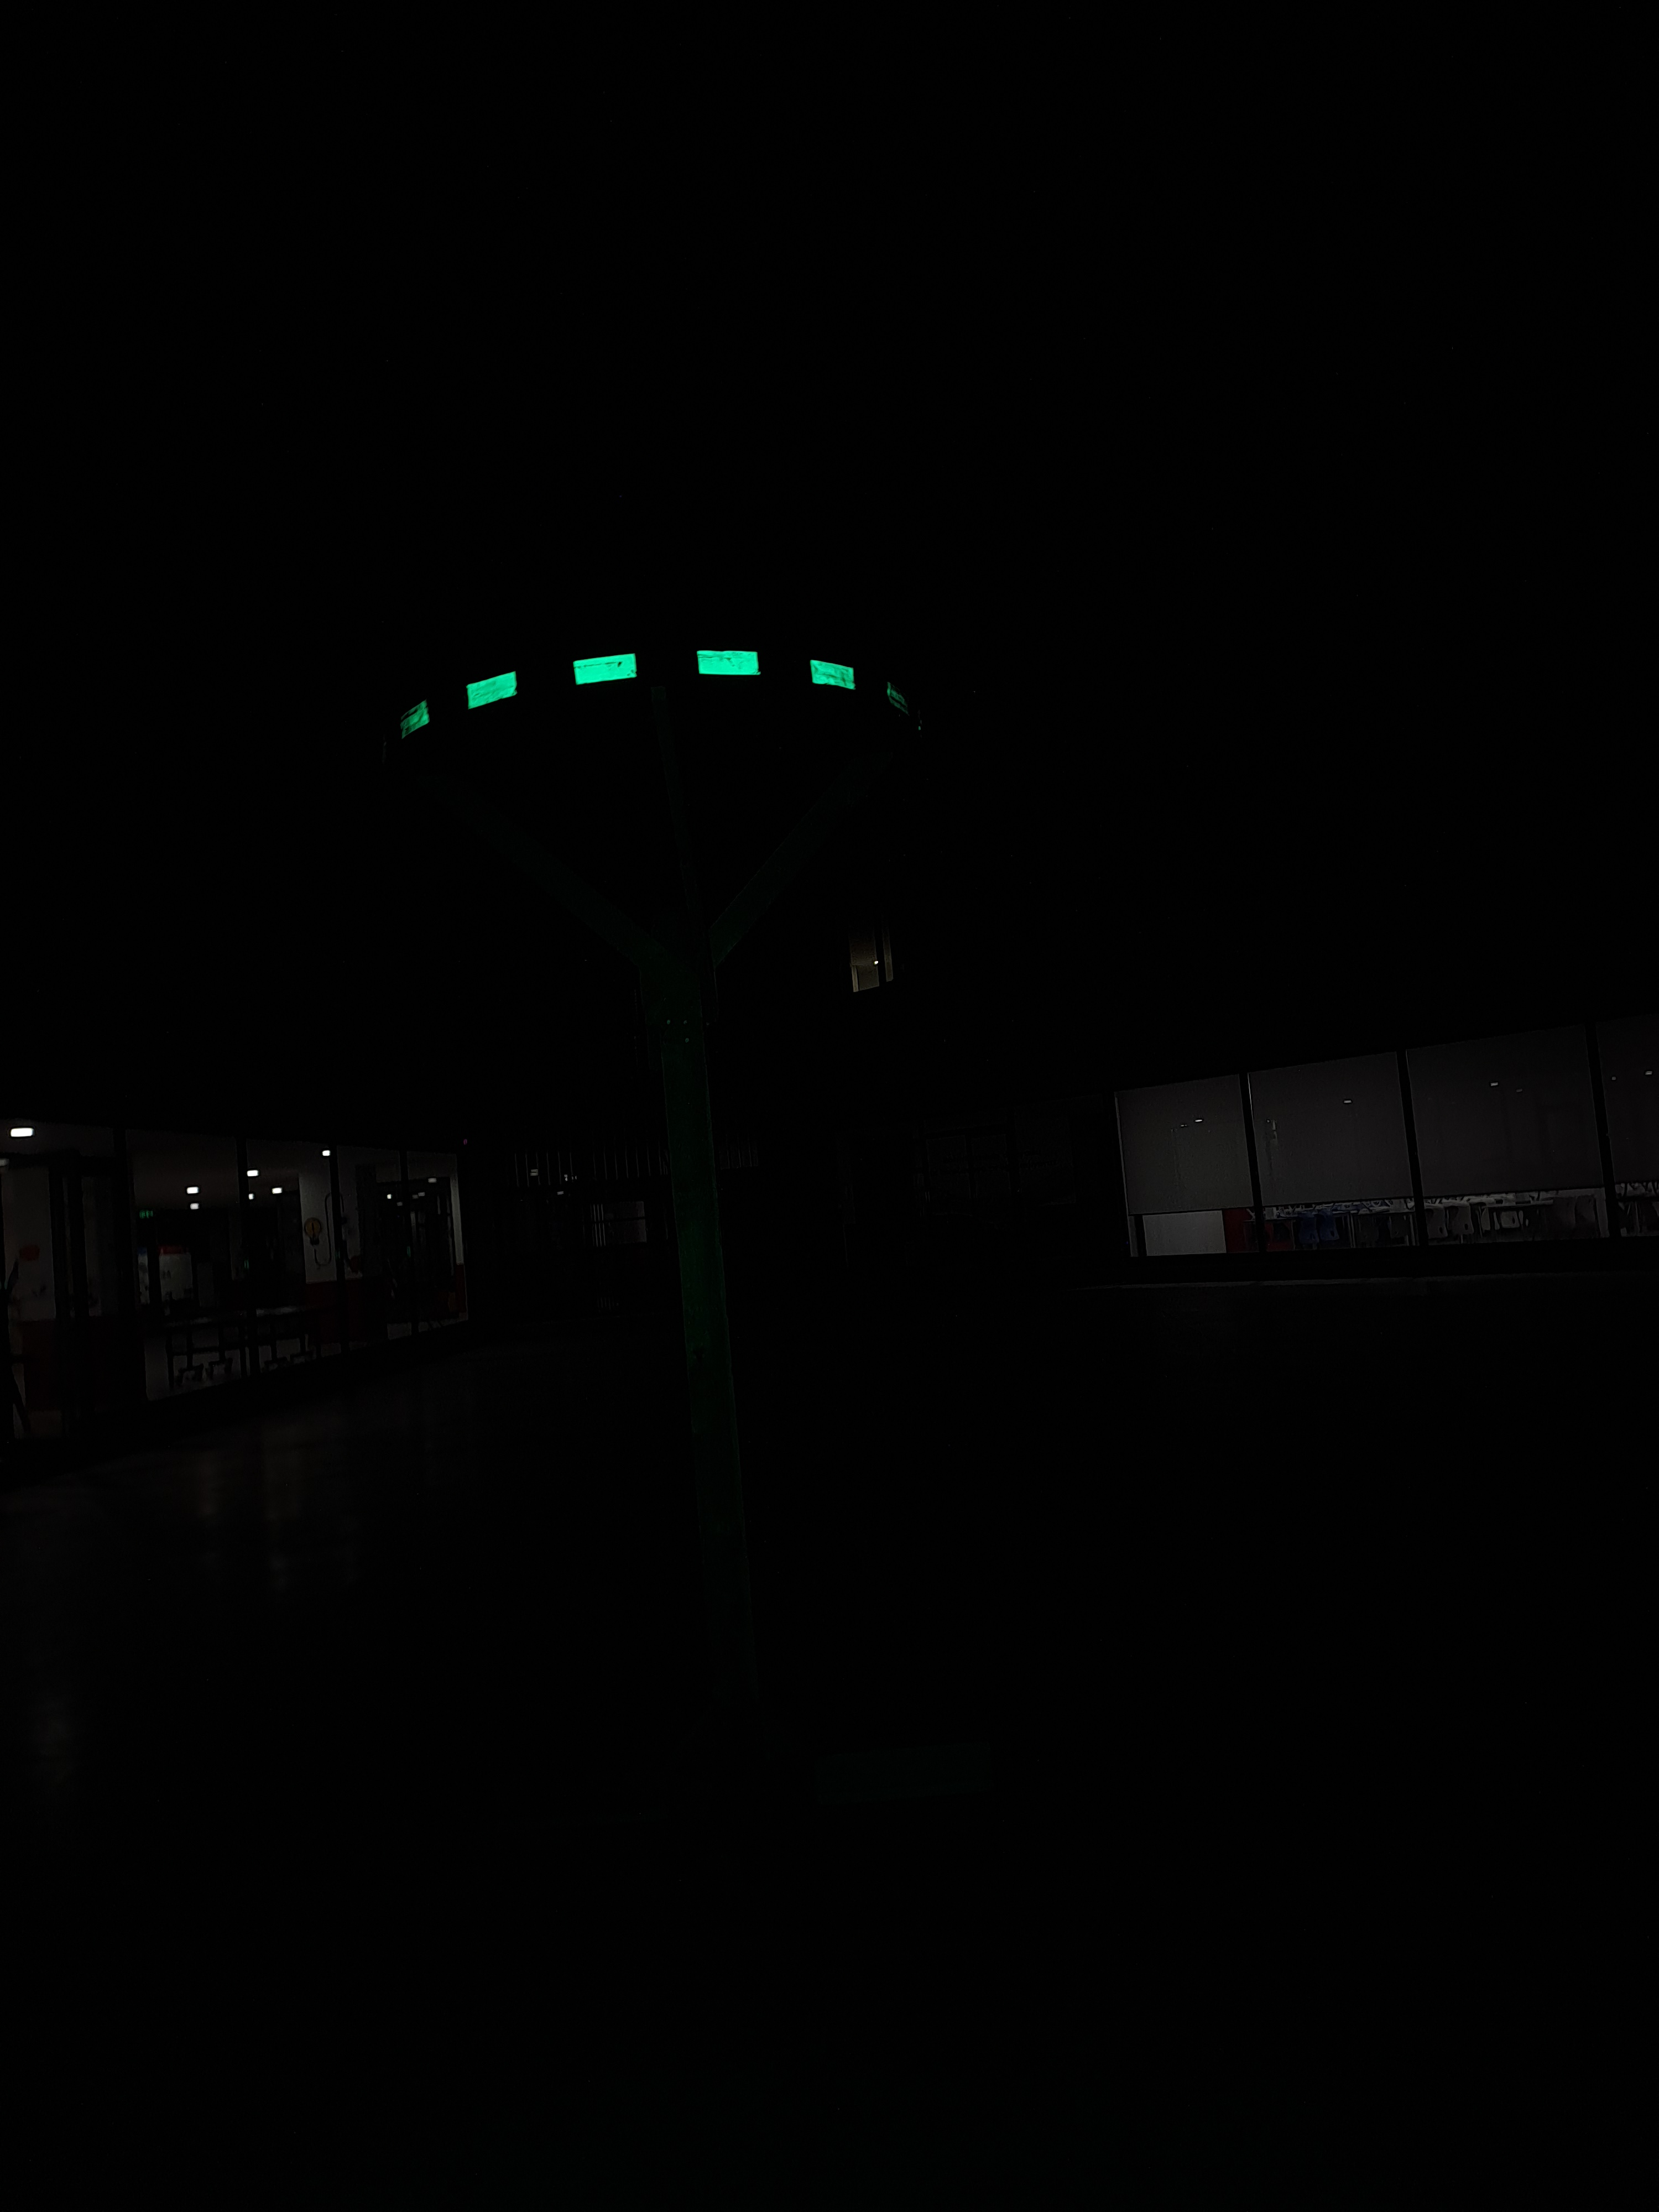hoop: (394, 641, 856, 756)
